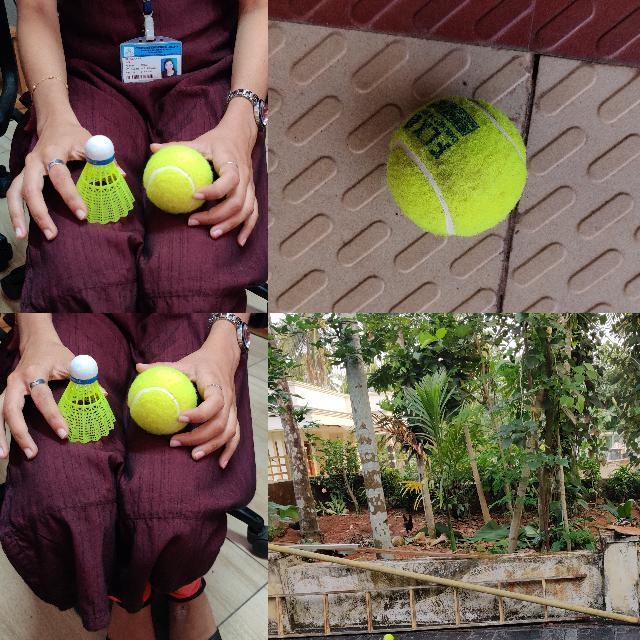tennis-ball: (386, 97, 526, 235), (127, 366, 195, 434), (144, 146, 212, 212), (383, 633, 394, 639)
